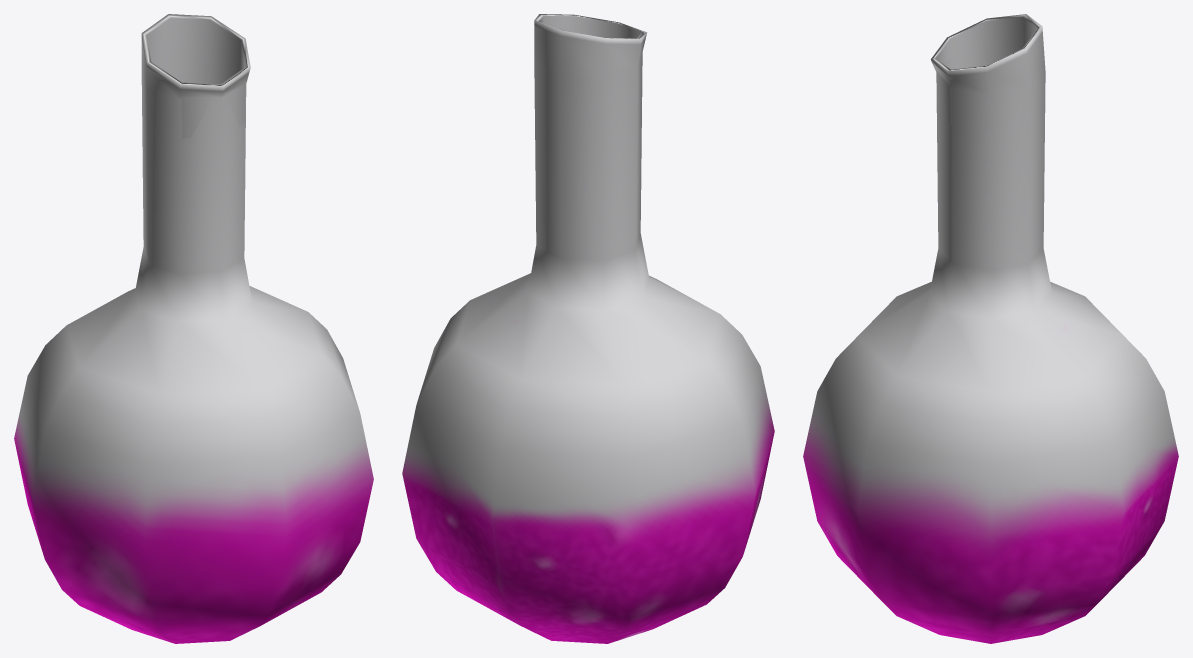
File: LabDesk_Object_FlorenceFlaskFill.fbx
The picture shows the model from 3 angles, left to right: view 1: azimuth 30°, elevation 25°; view 2: azimuth 150°, elevation 25°; view 3: azimuth 270°, elevation 25°; orthographic projection. The views are drawn at different scales.
Parts seen in each view (by area): view 1: LabDesk_Object_FlorenceFlaskFill; view 2: LabDesk_Object_FlorenceFlaskFill; view 3: LabDesk_Object_FlorenceFlaskFill.
Part boxes in pixels (<box>): LabDesk_Object_FlorenceFlaskFill: <box>14,14,373,643</box>; LabDesk_Object_FlorenceFlaskFill: <box>402,14,774,643</box>; LabDesk_Object_FlorenceFlaskFill: <box>803,14,1178,643</box>.
Bounding box in the file's own units: 5.94 × 10.47 × 5.94.
Materials: 1 (1 with a texture image).
